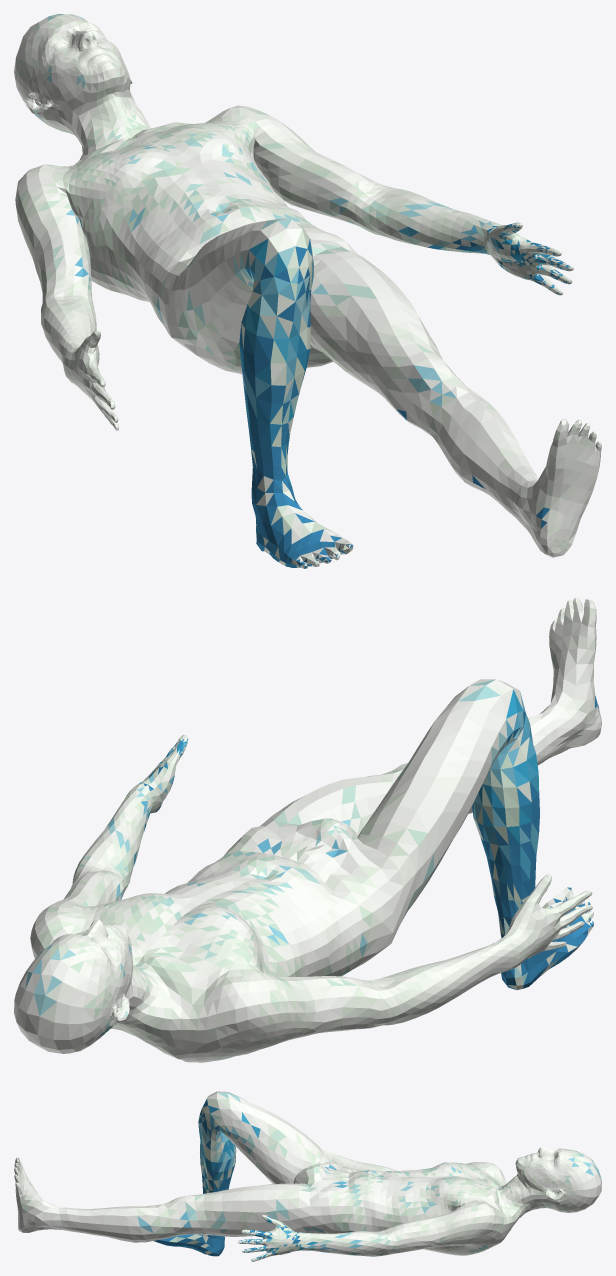
File: spiralconv_ch16_4.glb
3 views of the same model, one above another, from view 1: azimuth 30°, elevation 25°; view 2: azimuth 150°, elevation 25°; view 3: azimuth 270°, elevation 25° (orthographic). The views are drawn at different scales.
Parts seen in each view (by area): view 1: imagetostl_mesh0; view 2: imagetostl_mesh0; view 3: imagetostl_mesh0.
Boxes of the visible parts, left/top/right/bottom form: imagetostl_mesh0: left=14, top=14, right=601, bottom=568; imagetostl_mesh0: left=14, top=597, right=601, bottom=1062; imagetostl_mesh0: left=14, top=1091, right=601, bottom=1261.
Bounding box in the file's own units: 0.8492 × 0.5631 × 1.79.
